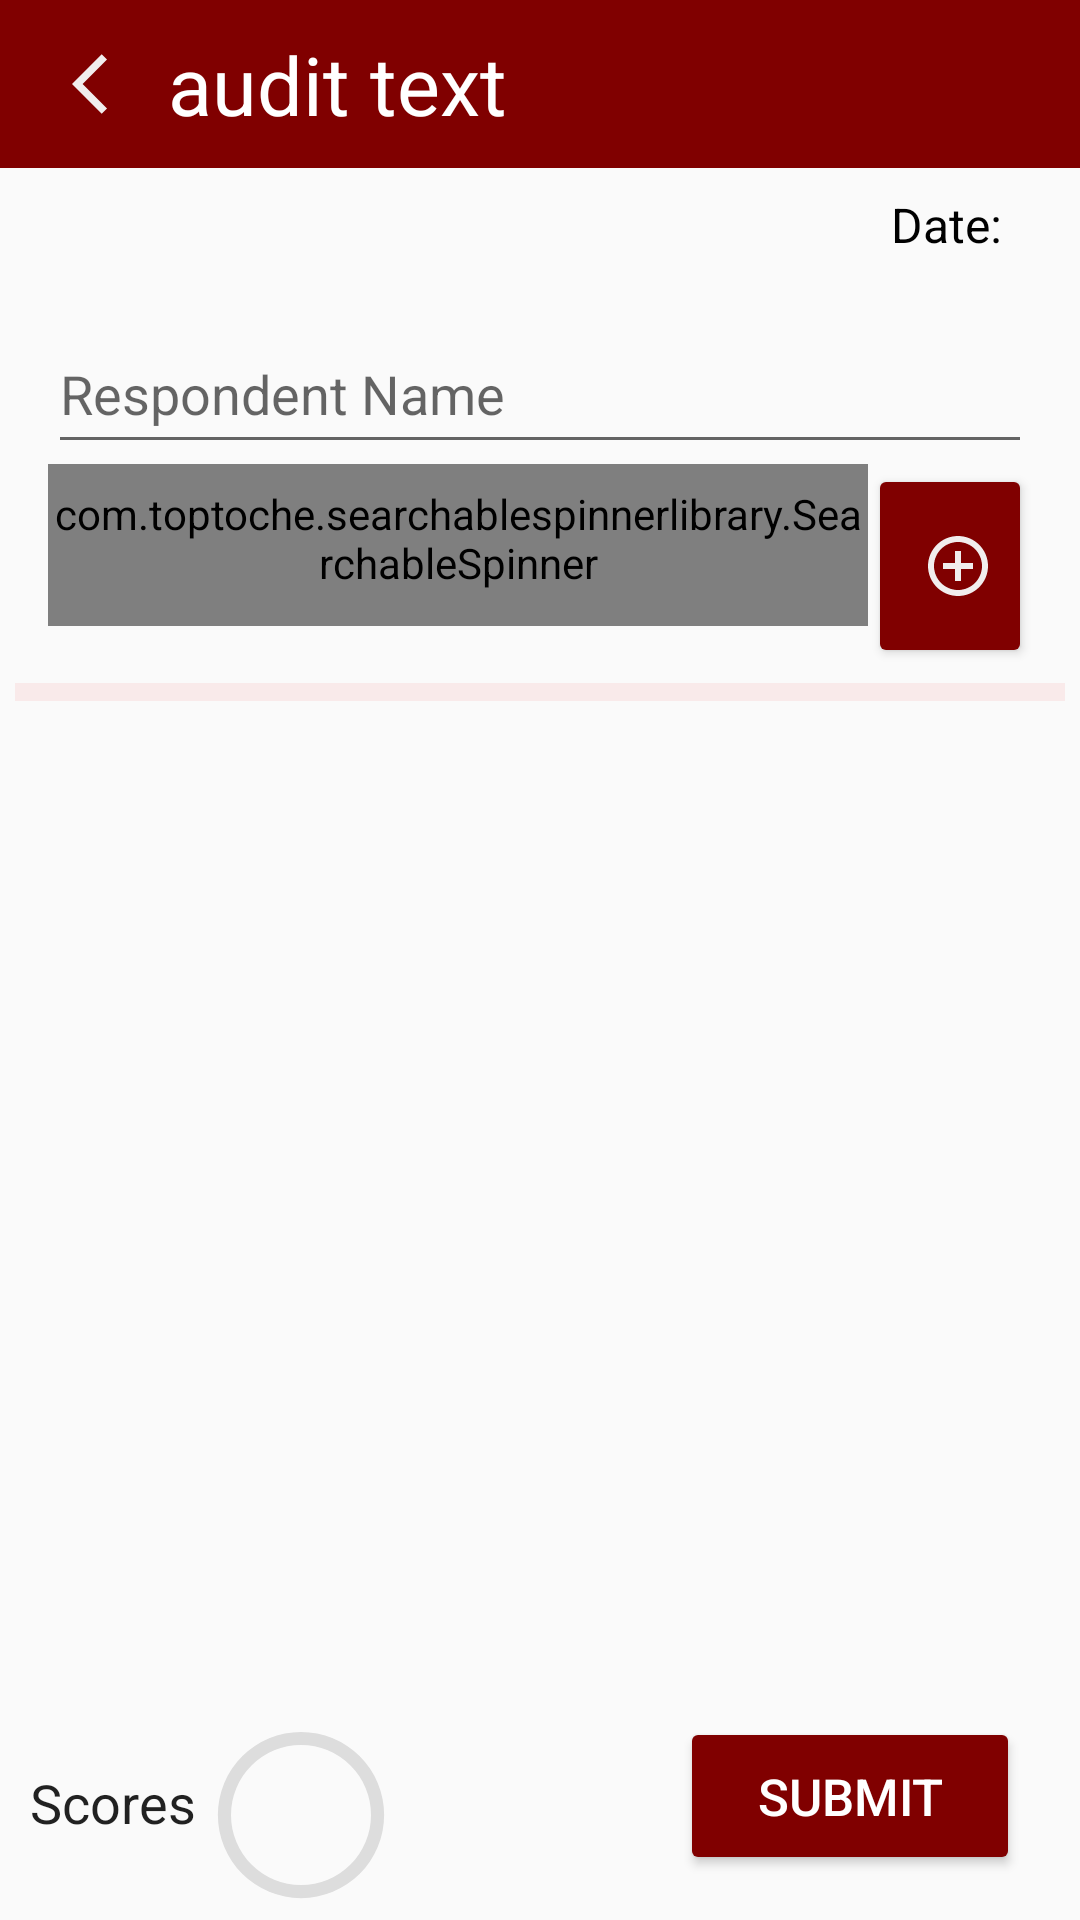

Screen size 1080×1920. Icon name, then its box in pixels as (x1, y1, x2, y2):
back icon: (72, 54, 107, 114)
